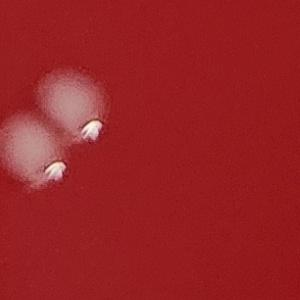colony: (30, 60, 115, 151), (0, 106, 72, 202)
